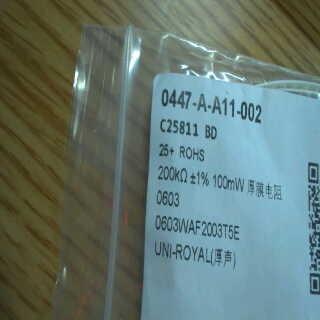200kR: (153, 162, 190, 188)
